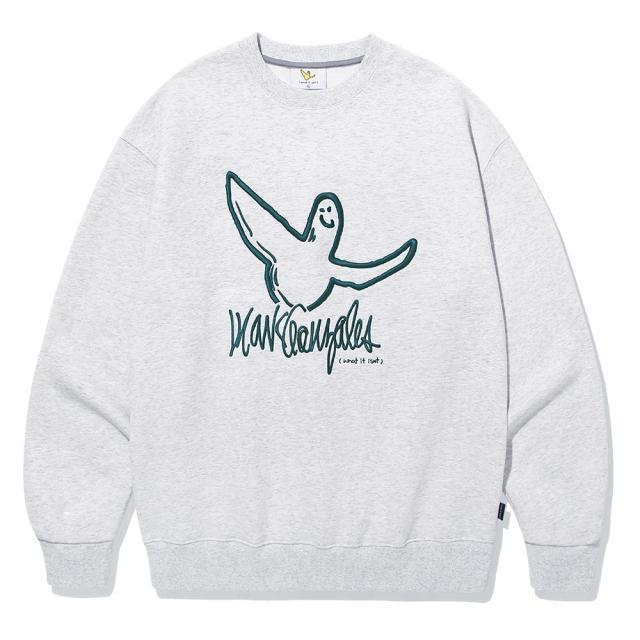sweater: (22, 30, 615, 609)
